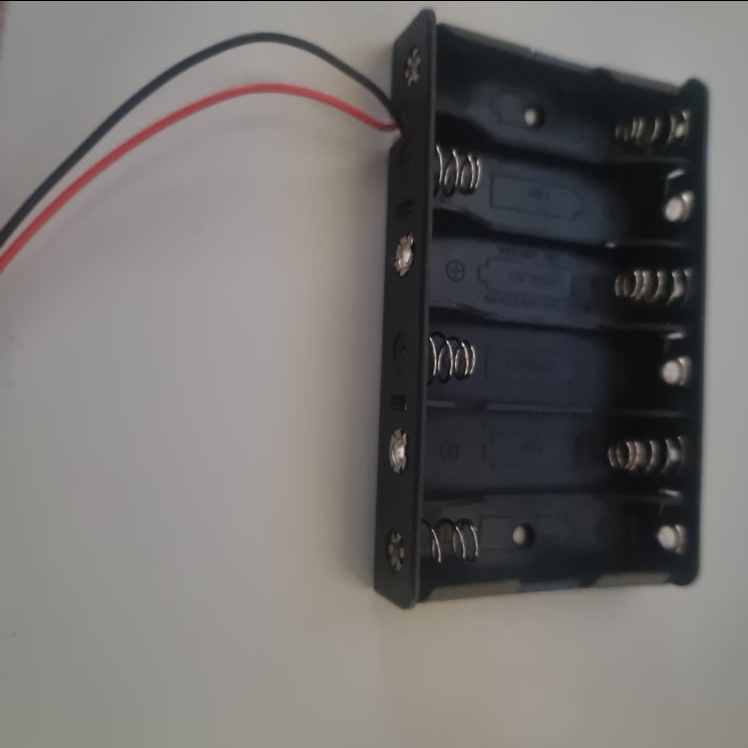BATTERY BOX: (372, 8, 713, 612)
